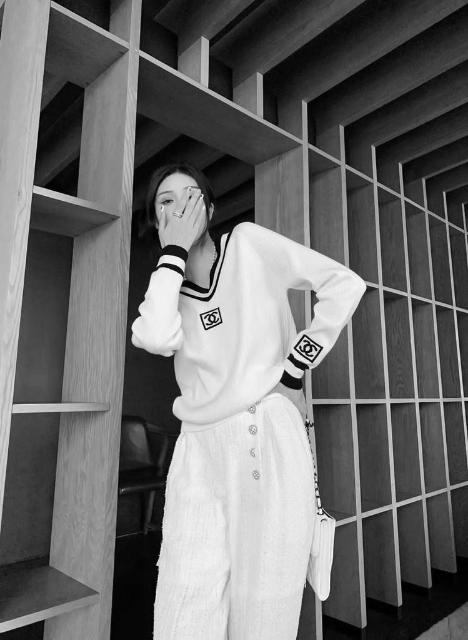Chanel: (287, 332, 327, 364), (195, 308, 233, 334)
